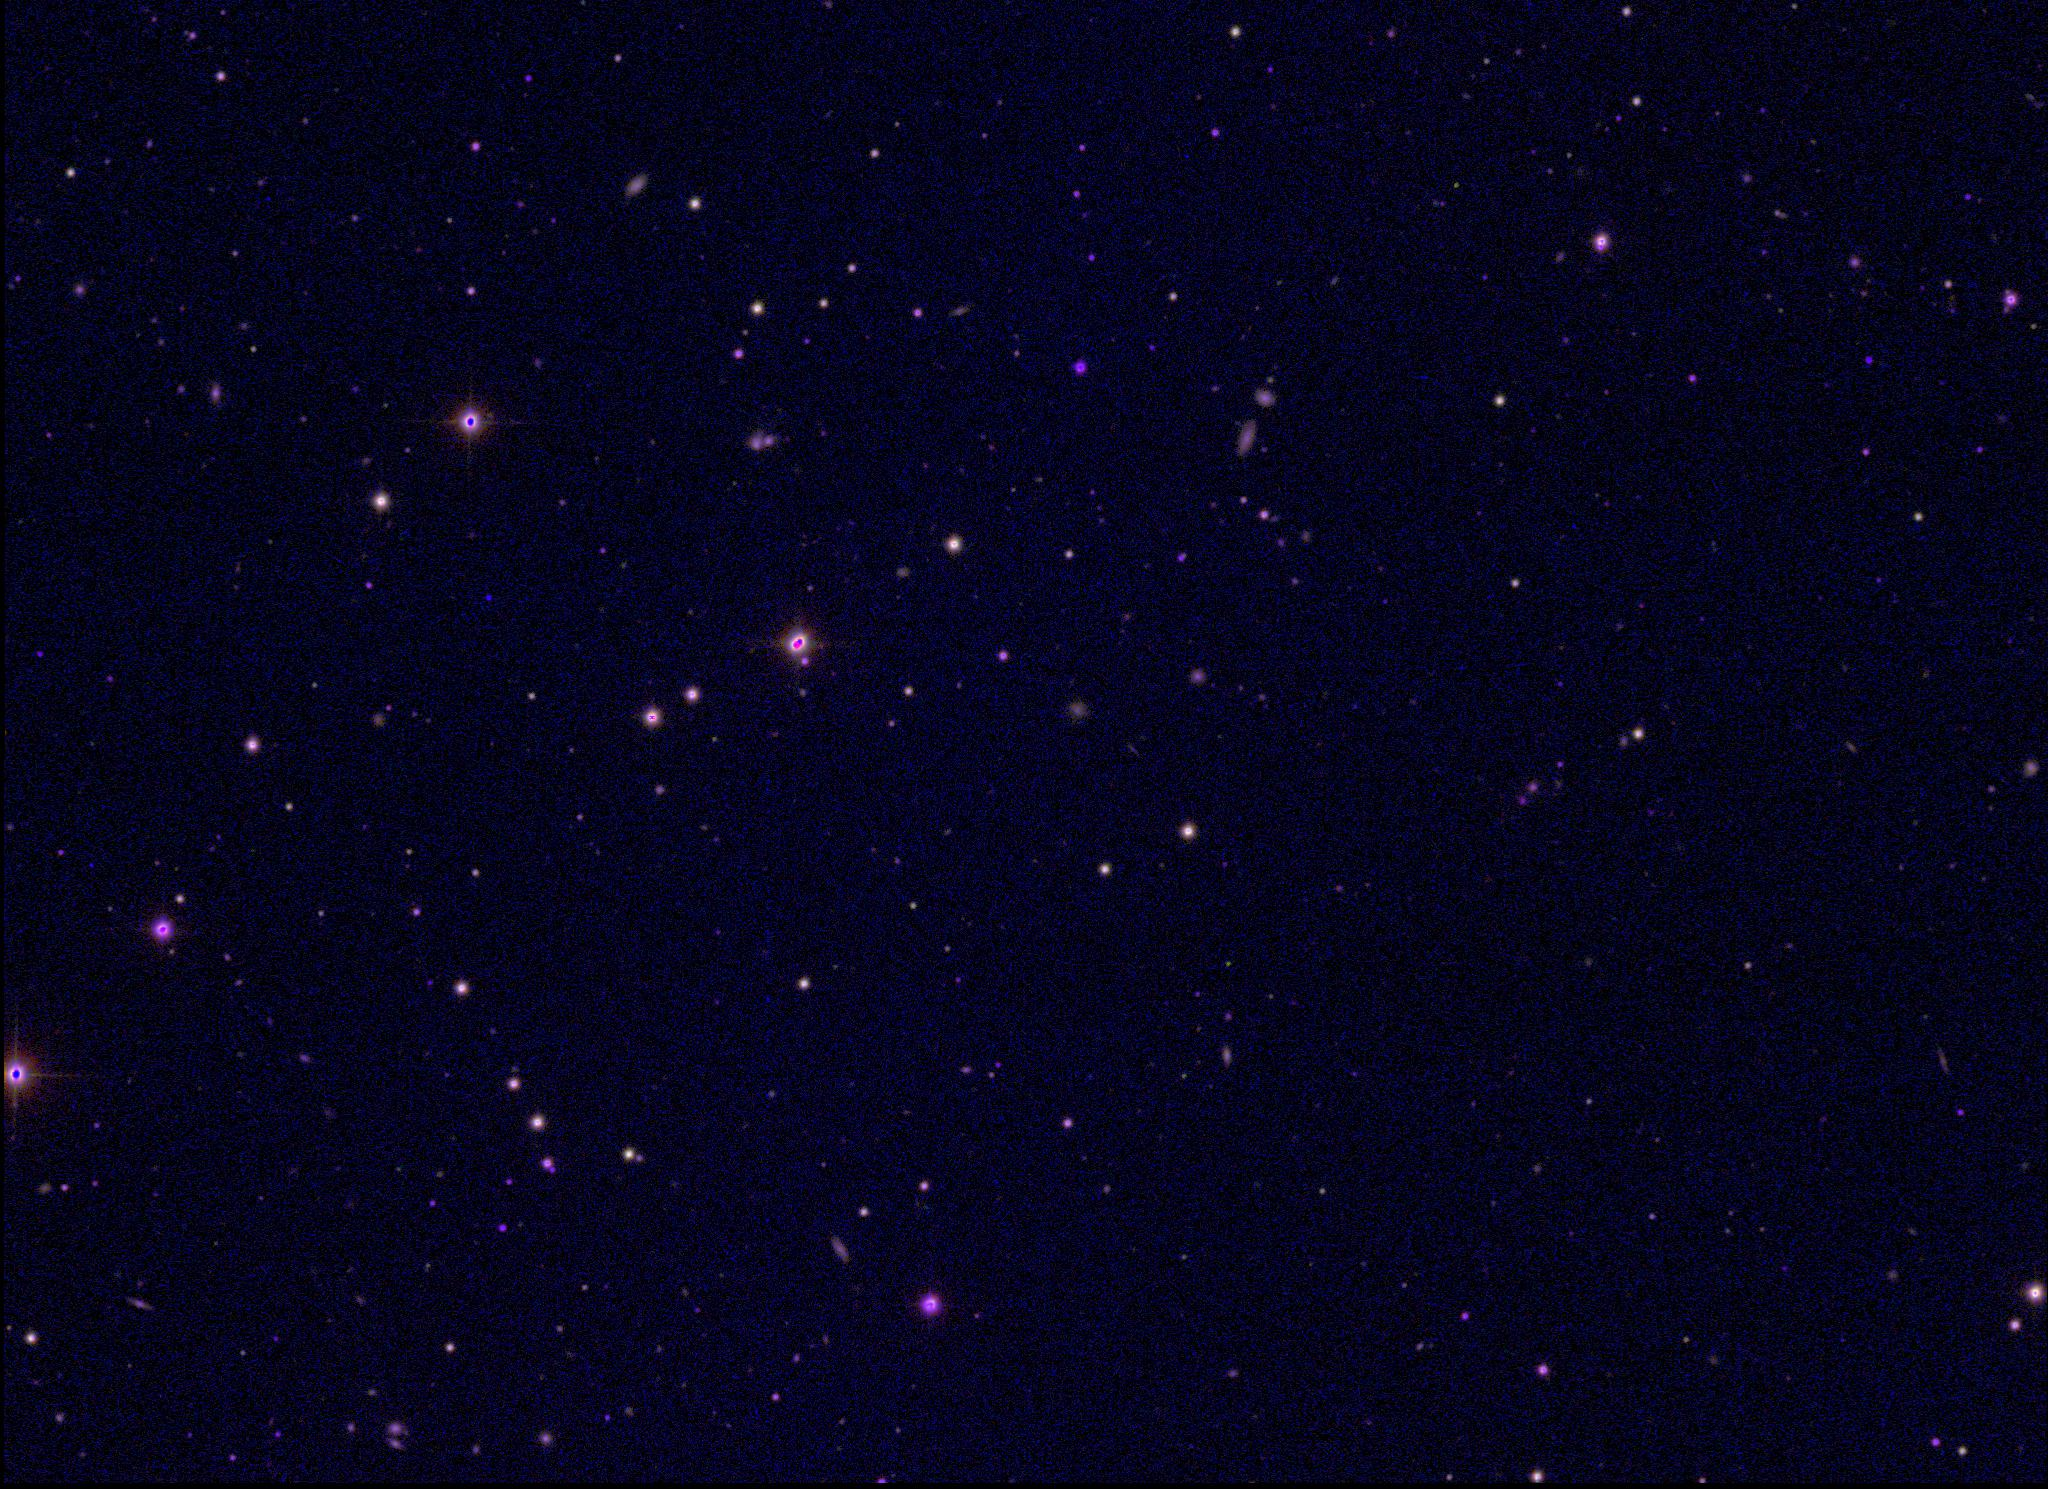L: (482, 592, 496, 605)
